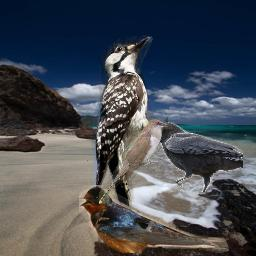Crow: (138, 122, 243, 192)
Cuckoo: (99, 119, 172, 204)
Swallow: (79, 185, 229, 253)
Woodpecker: (89, 33, 168, 231)
